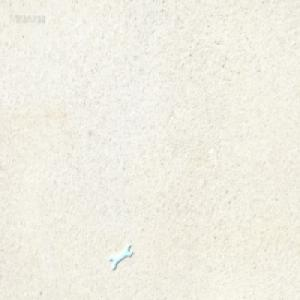Wrench: (108, 241, 131, 269)
